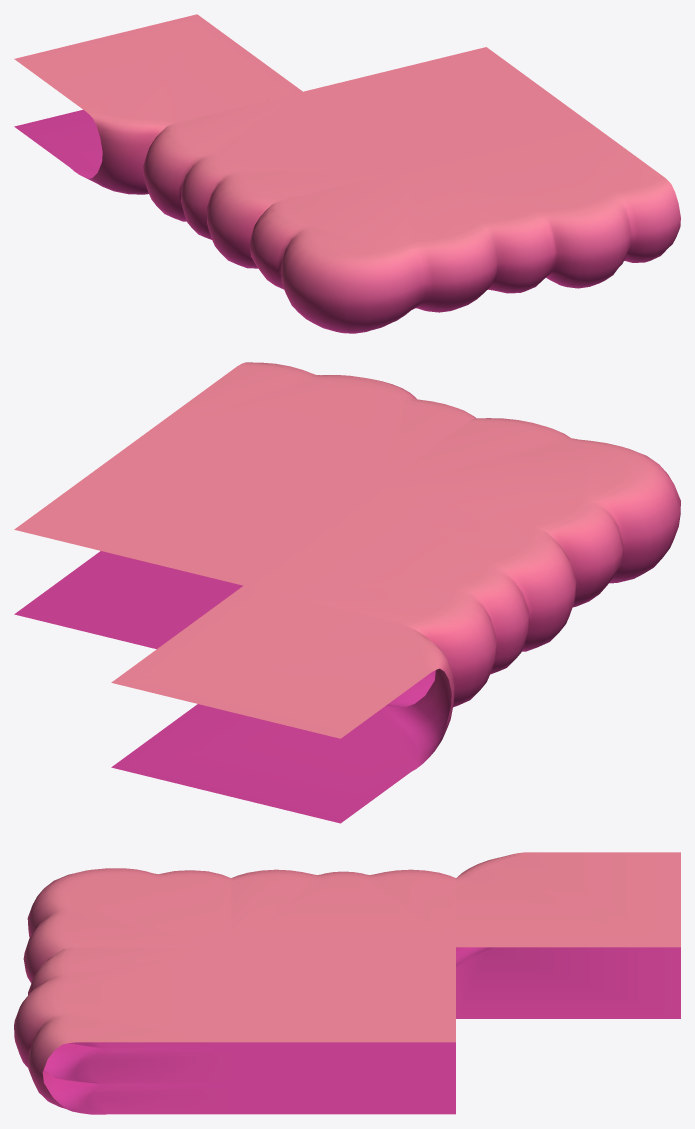
File: cloud_kit.fbx
The picture shows the model from 3 angles, top to bottom: view 1: azimuth 30°, elevation 25°; view 2: azimuth 150°, elevation 25°; view 3: azimuth 270°, elevation 25°; orthographic projection. The views are drawn at different scales.
Visible parts, largest first — view 1: cloud_corner, cloud_middle, cloud_innercorner, cloud_middle2, cloud_center; view 2: cloud_innercorner, cloud_center, cloud_middle2, cloud_corner, cloud_middle; view 3: cloud_center, cloud_innercorner, cloud_middle, cloud_middle2, cloud_corner.
Part boxes in pixels (left/top/right/bottom): cloud_corner: left=249, top=169, right=497, bottom=333; cloud_middle: left=409, top=124, right=680, bottom=293; cloud_innercorner: left=14, top=14, right=302, bottom=194; cloud_middle2: left=143, top=92, right=408, bottom=268; cloud_center: left=303, top=47, right=591, bottom=168; cloud_innercorner: left=111, top=586, right=454, bottom=823; cloud_center: left=14, top=432, right=375, bottom=649; cloud_middle2: left=244, top=488, right=576, bottom=707; cloud_corner: left=376, top=418, right=680, bottom=607; cloud_middle: left=147, top=362, right=475, bottom=488; cloud_center: left=231, top=947, right=455, bottom=1114; cloud_innercorner: left=456, top=852, right=680, bottom=1018; cloud_middle: left=14, top=947, right=231, bottom=1114; cloud_middle2: left=231, top=869, right=455, bottom=947; cloud_corner: left=23, top=868, right=231, bottom=983.
Size of the model in its own units: 400 by 85.86 by 593.
Materials: 1 (1 with a texture image).
